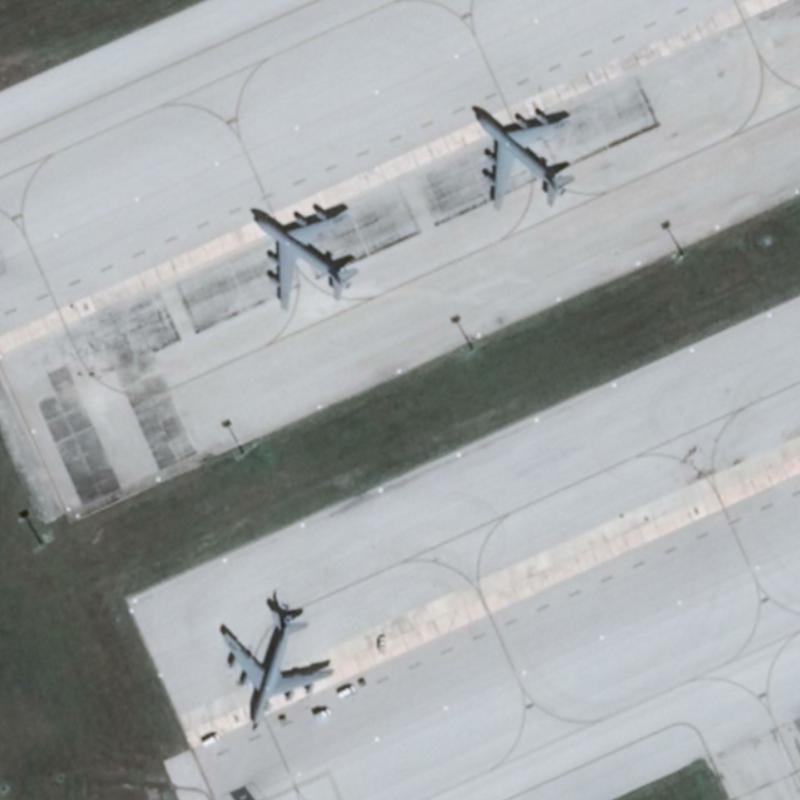A14: (217, 596, 337, 733), (241, 200, 367, 316), (468, 98, 585, 209)
